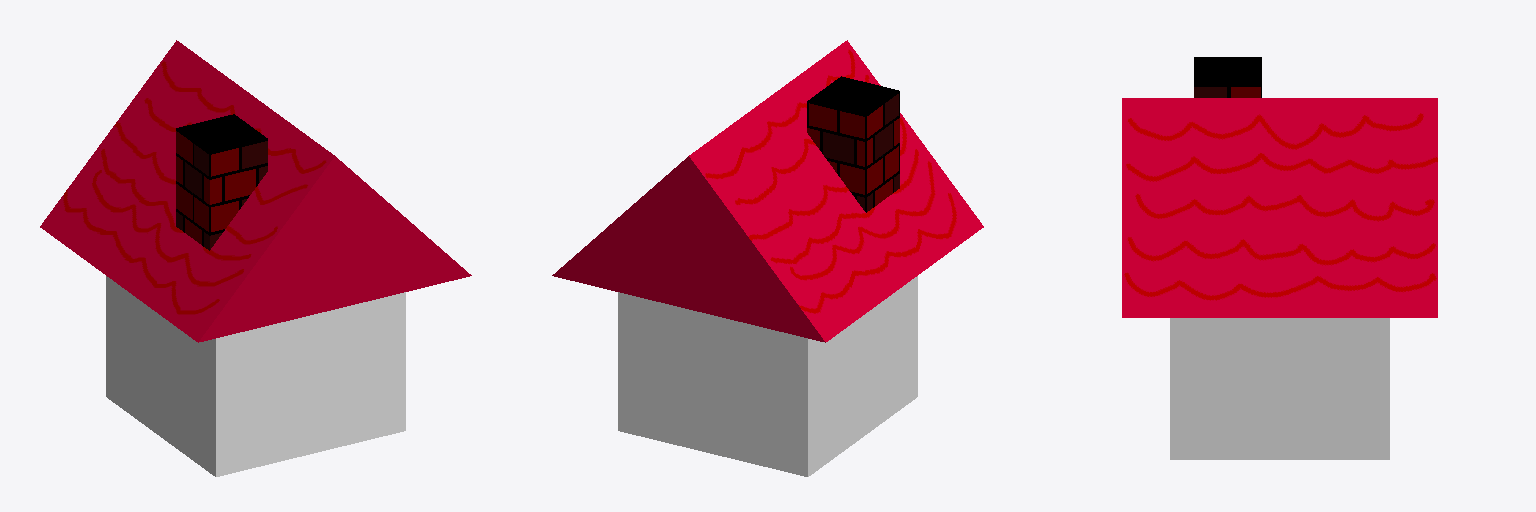
3 views of the same model, side by side, from view 1: azimuth 30°, elevation 25°; view 2: azimuth 150°, elevation 25°; view 3: azimuth 270°, elevation 25° (orthographic).
Parts seen in each view (by area): view 1: 立方体.001; view 2: 立方体.001; view 3: 立方体.001.
Boxes of the visible parts, box(x1,y1,x2,y2) form: 立方体.001: box(40, 40, 471, 476); 立方体.001: box(552, 40, 983, 476); 立方体.001: box(1122, 57, 1437, 459).
Bounding box in the file's own units: 2.16 × 2.38 × 2.16.
Materials: 1 (1 with a texture image).